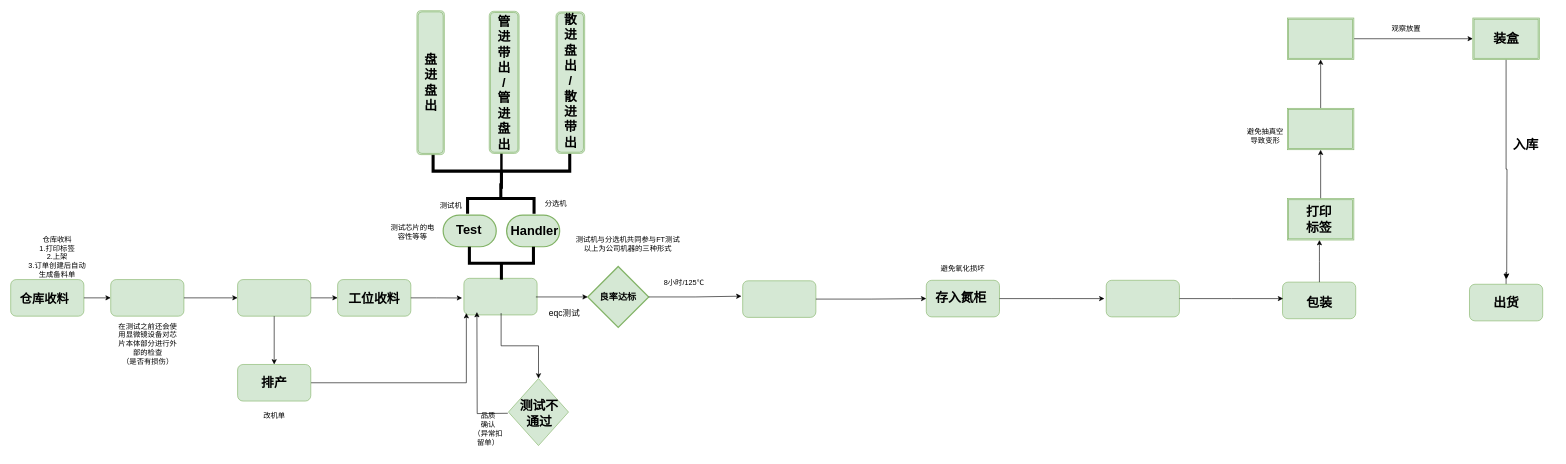
The diagram is 1566 pixels wide and 464 high, and some of its shapes have lost their labels. The shapes that lost their labels are listed below. From the top down, each one's box as (x1, y1, x2, y2) in pixels, then its label:
(1287, 17, 1354, 59): 真空机抽至真空
(1287, 108, 1354, 150): 塞入泡棉
(110, 279, 184, 316): IQC检测
(237, 279, 311, 316): 线边仓收料
(463, 278, 537, 315): FT测试
(742, 280, 816, 317): 烘烤
(1106, 280, 1179, 317): 编带（TR）
